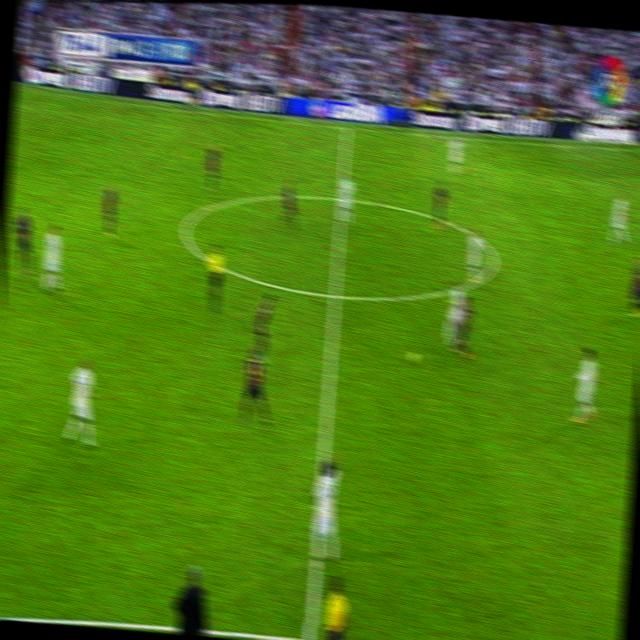halfcircle_bottom: (326, 279, 344, 310)
halfcircle_top: (334, 188, 347, 208)
midline_bottom_intersection: (300, 622, 322, 640)
midline_top_intersection: (340, 119, 353, 136)
